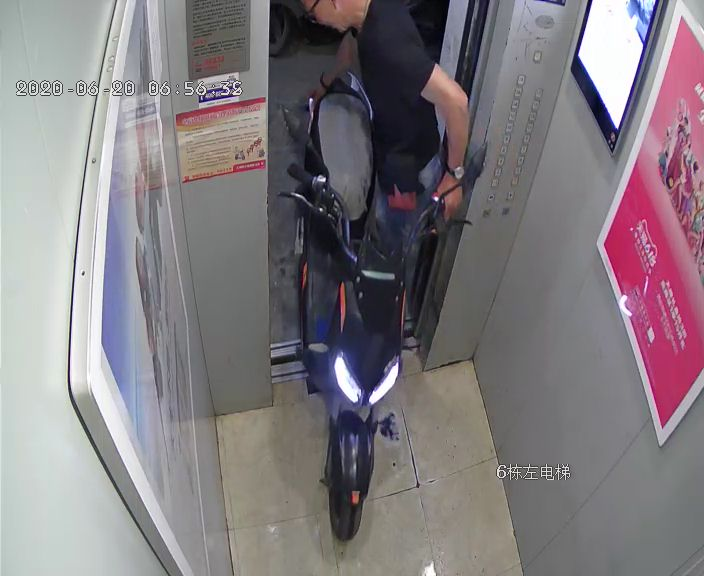Electric-bicycle: (286, 72, 484, 535)
